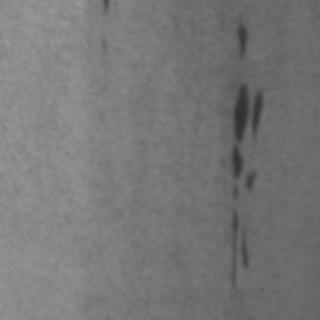inclusion: (224, 140, 264, 296), (223, 78, 267, 142), (227, 16, 251, 60)
